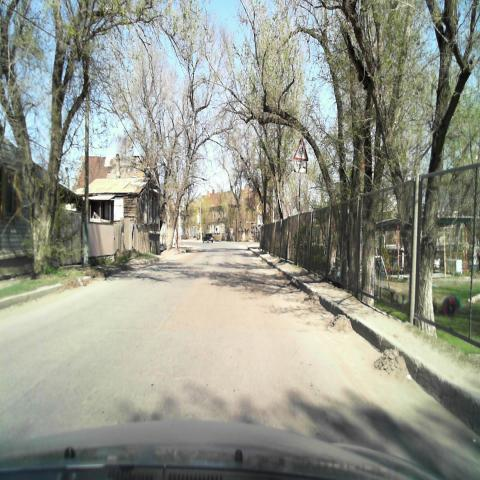8_1_3: (293, 161, 308, 174)
